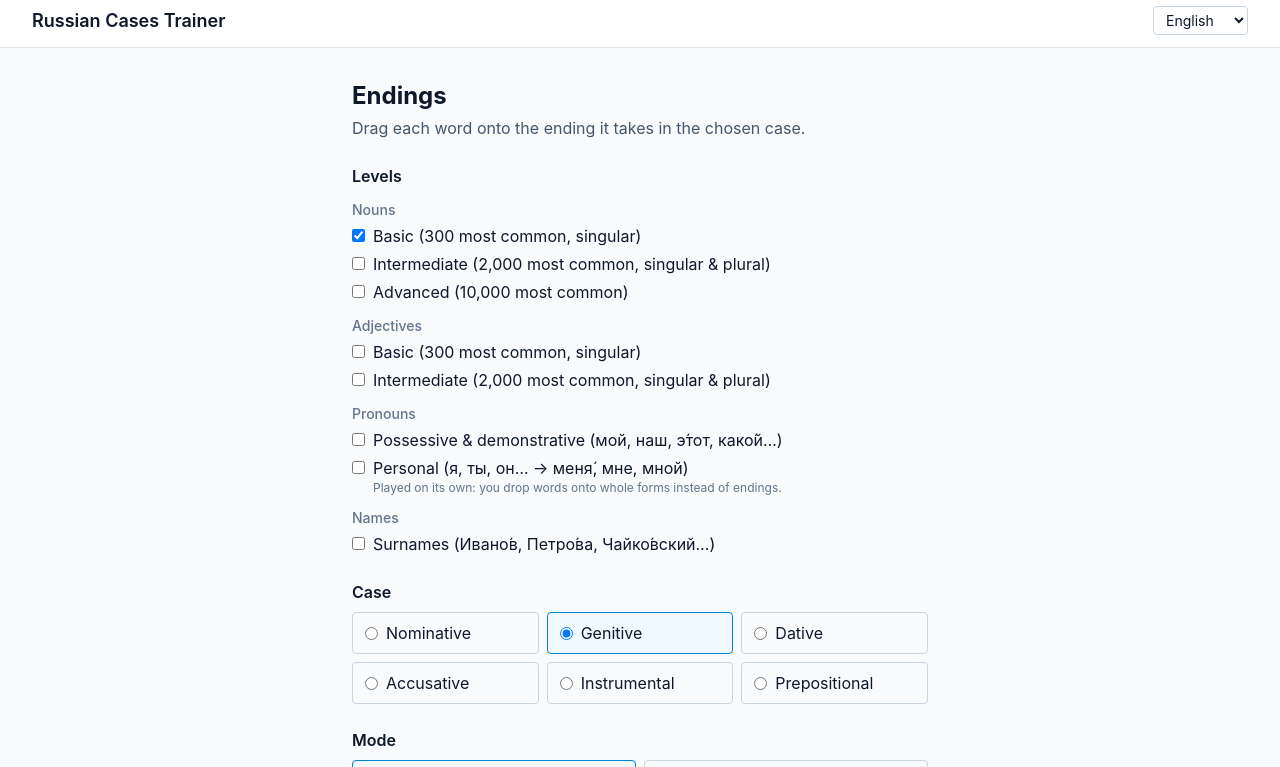
Test: explanations › the case's rules open over the game, which goes on where it was
Step 1. Click the radio button labelled "Instrumental" → (566,683), box [560,676,573,690]
(page scrolled)
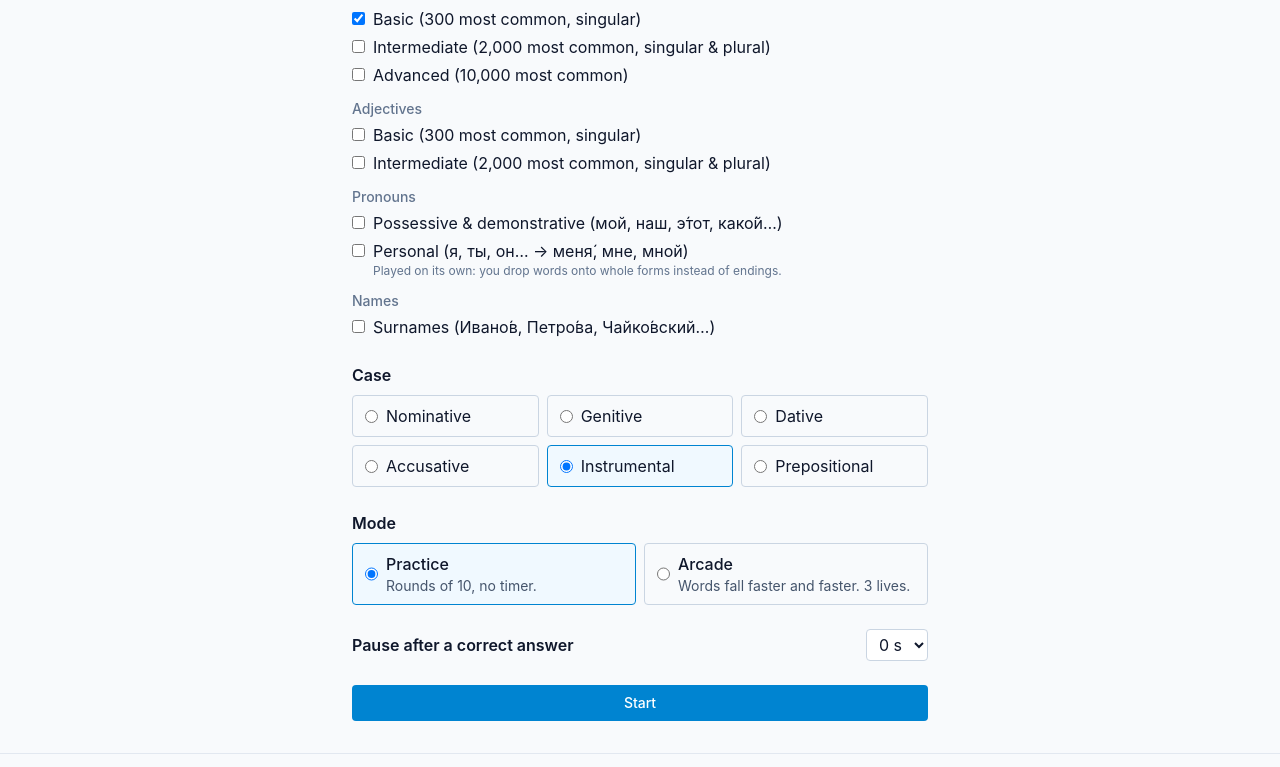
Step 2. Click the button "Start" → (640,703), box [352,685,928,721]
(page scrolled)
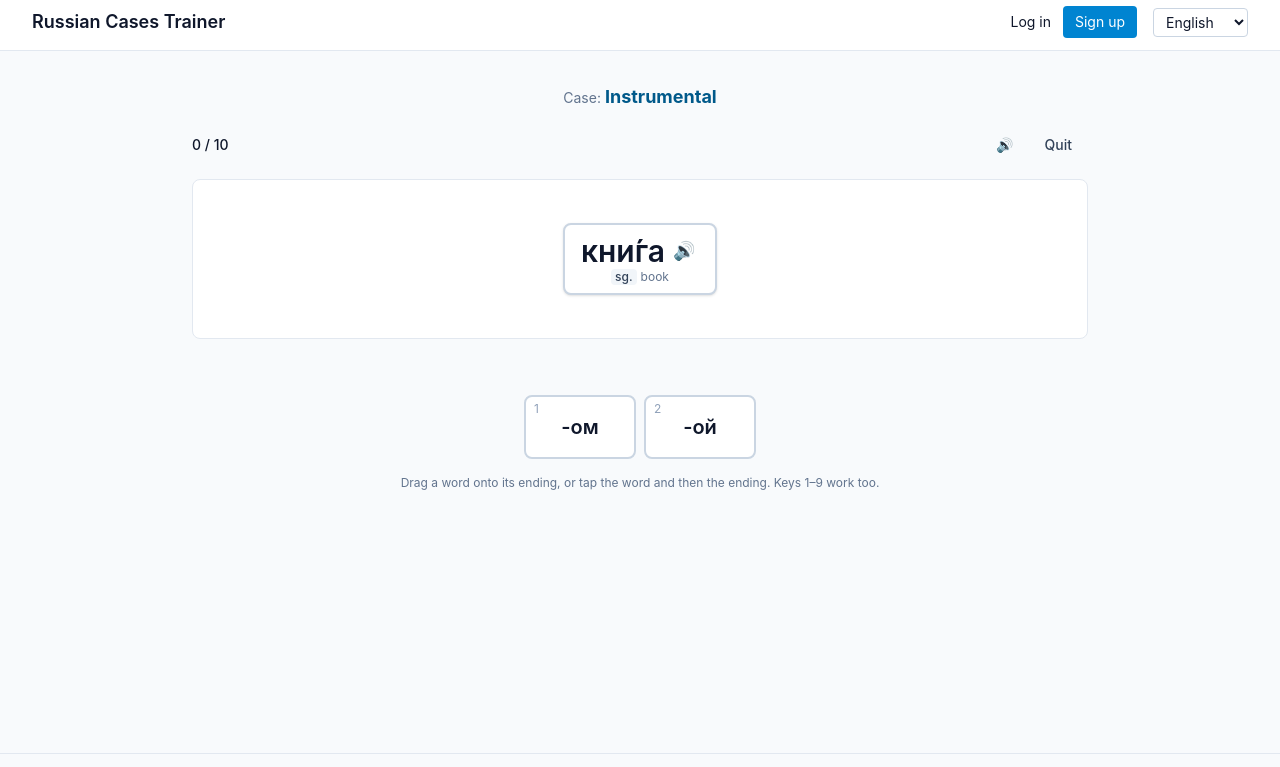
Expected: the text "кни́га" is shown, [581,233,665,269]
Step 3. Click the button "-ом 1" → (580,427), box [524,395,636,459]
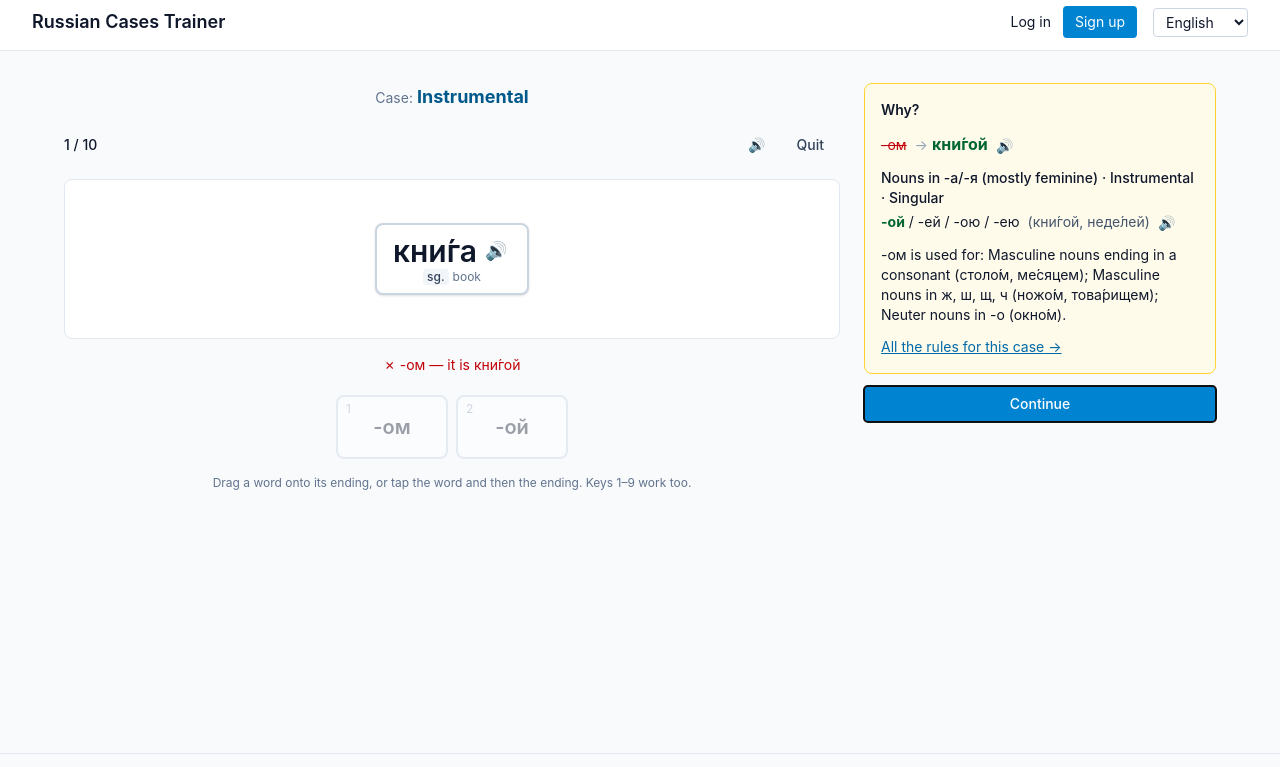
Step 4. Click the button "All the rules for this case →" → (971,347), box [881,337,1062,357]
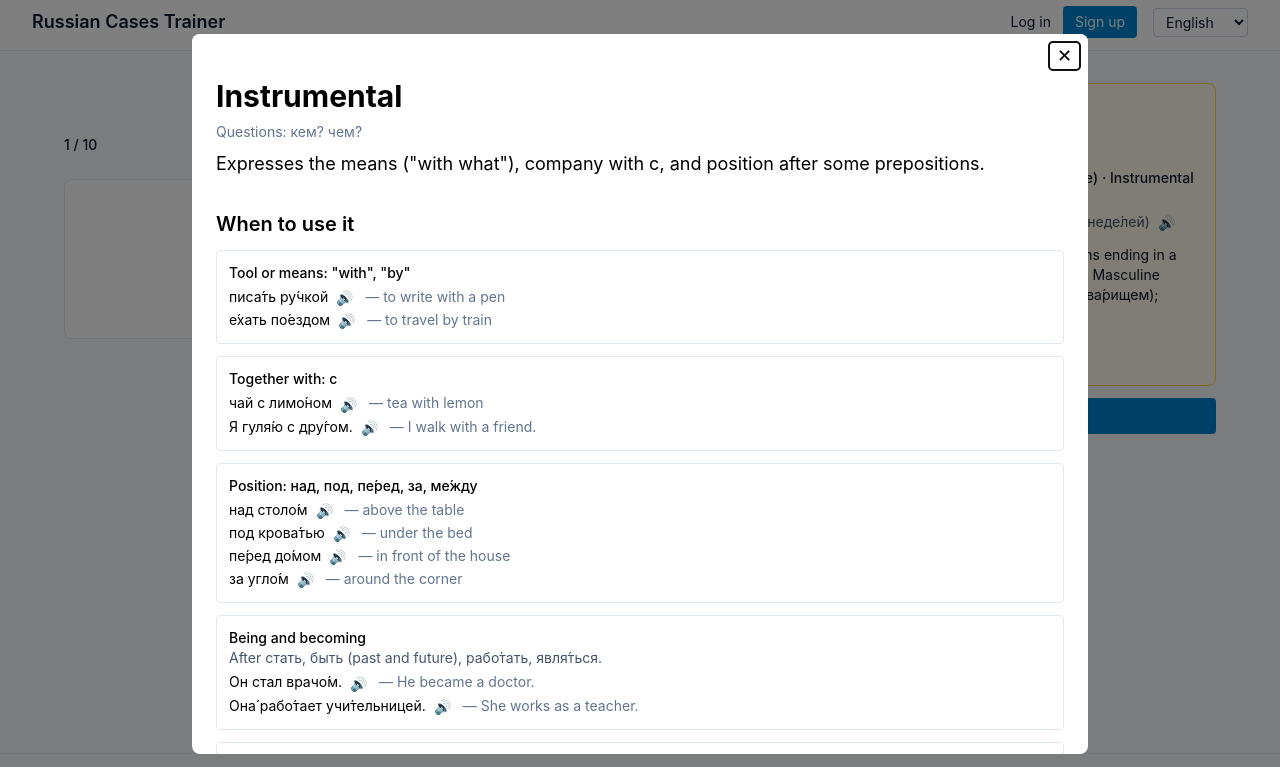
Expected: the heading "Instrumental" is shown, [216,78,402,114]
Enter belongs to the dialog now, not to the game behind it.
Step 5. Press Enter in the button named "Close", box [1049,42,1080,70]
Expected: the text "окно́" is not shown
Step 6. Click the button named "Close" → (1064,56), box [1049,42,1080,70]
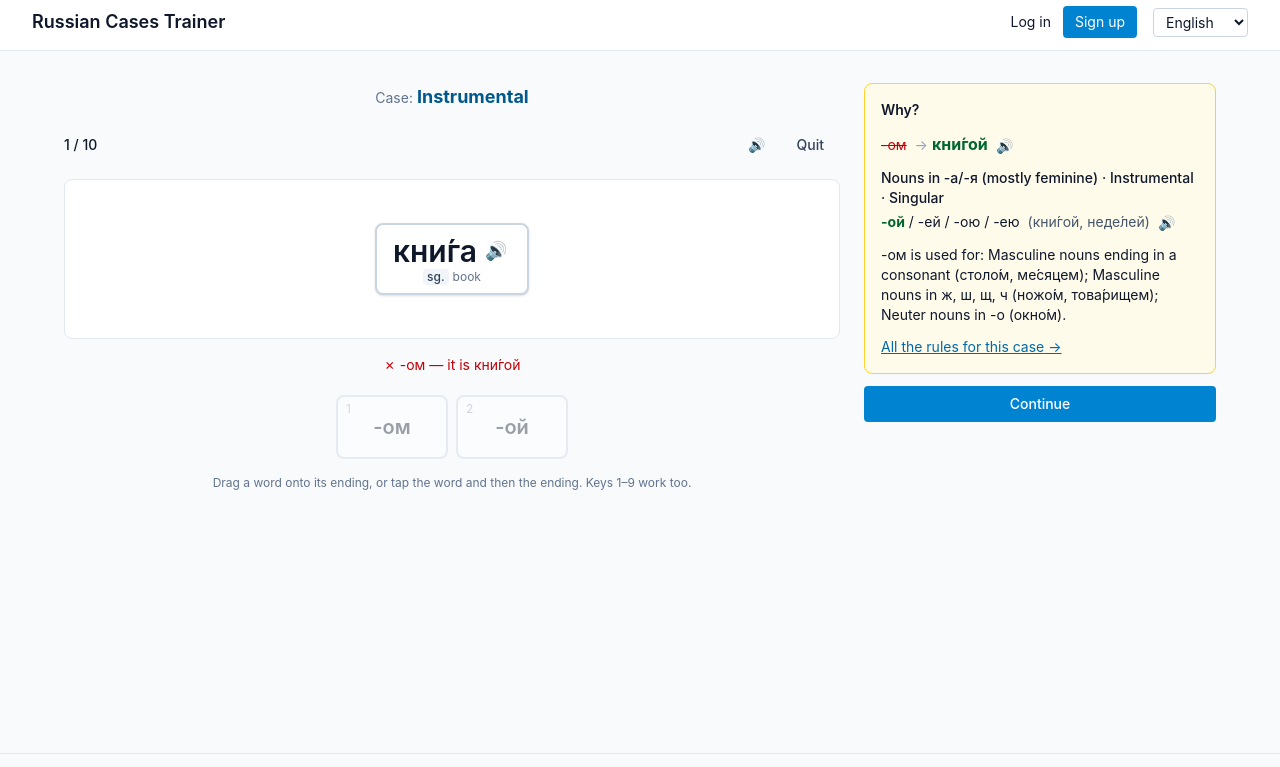
Expected: the text "1 / 10" is shown, [64,135,97,155]
Expected: the text "кни́га" is shown, [393,233,477,269]
Expected: the dialog is gone
Step 7. Click the button "Continue" → (1040,404), box [864,386,1216,422]
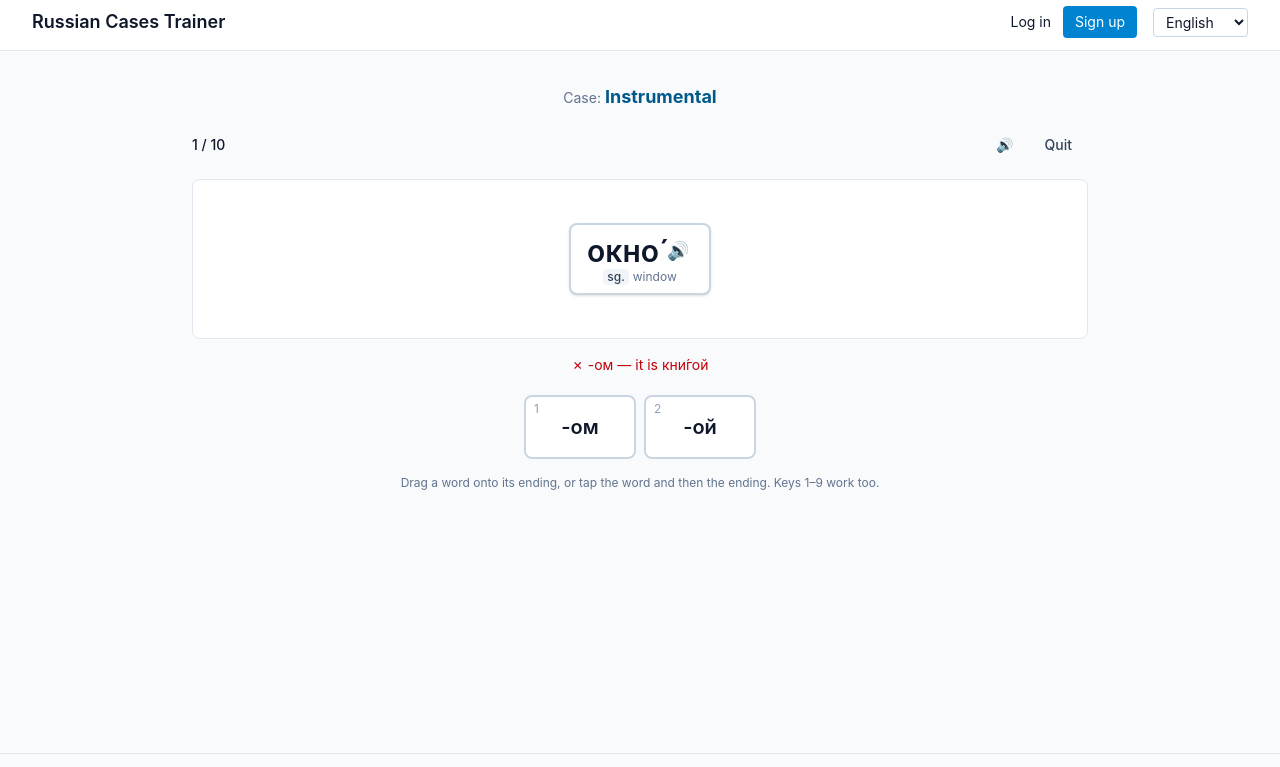
Expected: the text "окно́" is shown, [587,233,659,269]
